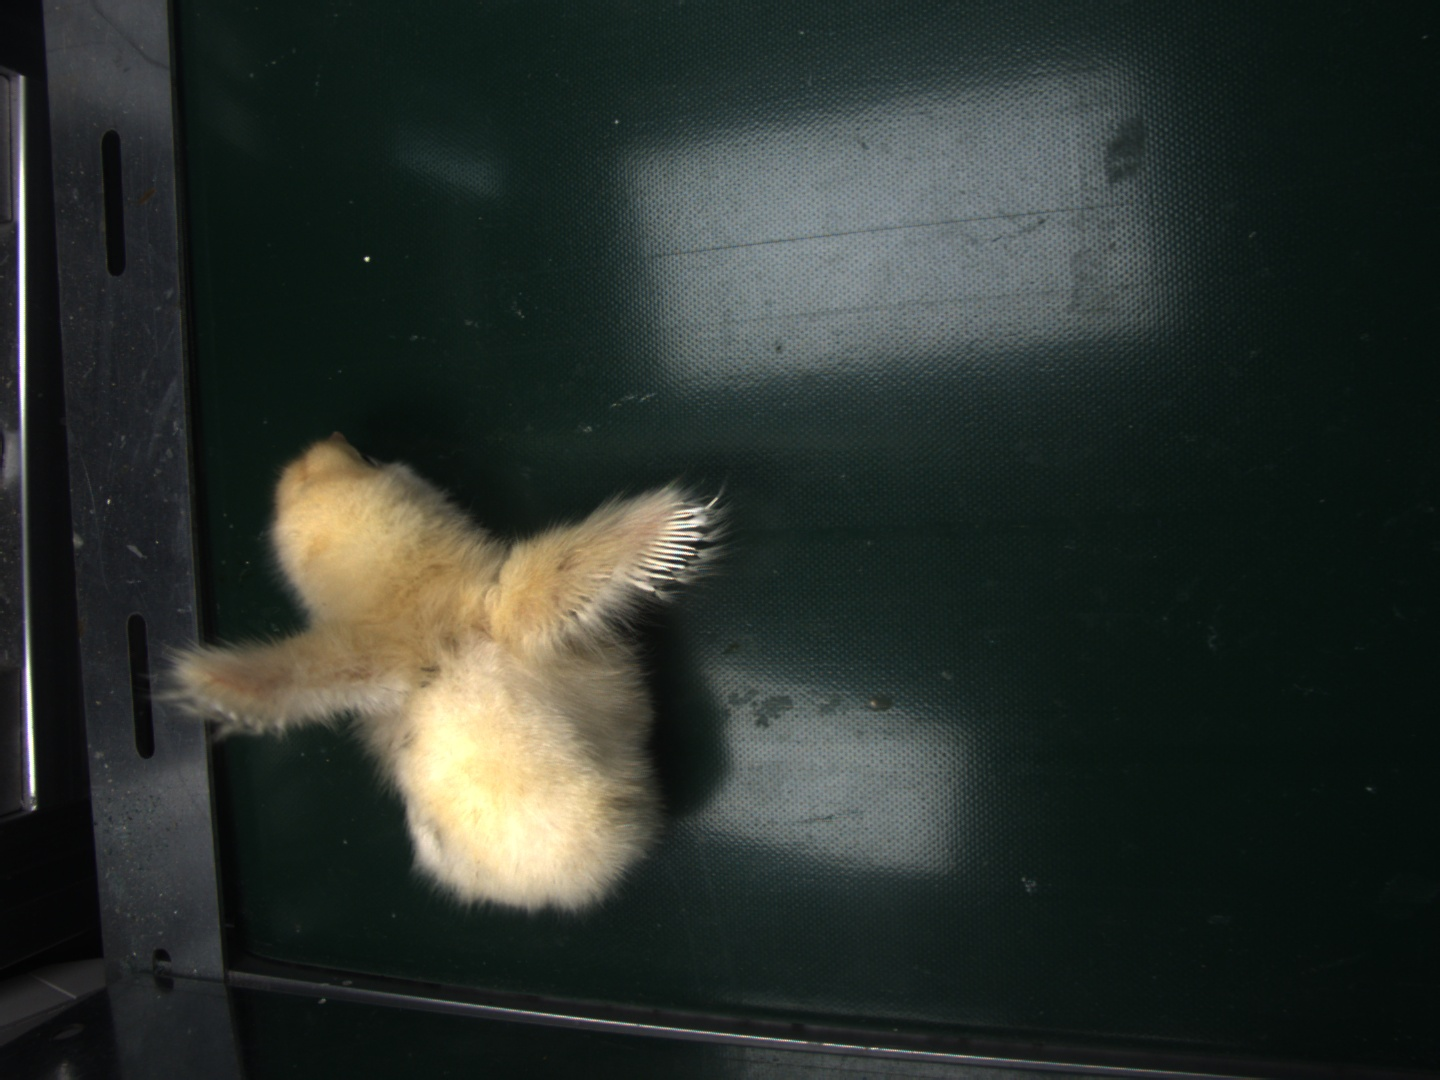male: (632, 501, 710, 585)
